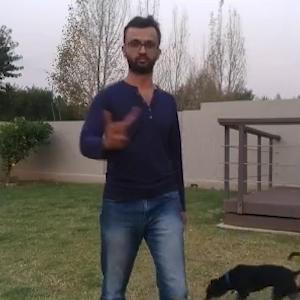takeoff-hand: (100, 96, 141, 151)
